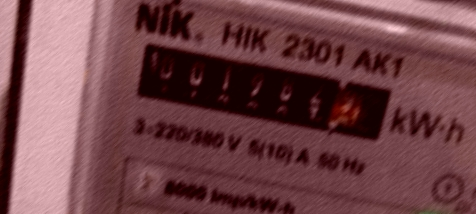0: (157, 51, 177, 82), (187, 58, 207, 89)
1: (218, 62, 234, 92)
2: (307, 76, 329, 107)
8: (278, 73, 297, 103)
9: (338, 86, 361, 116), (247, 69, 265, 99)
screen: (118, 27, 409, 157)
